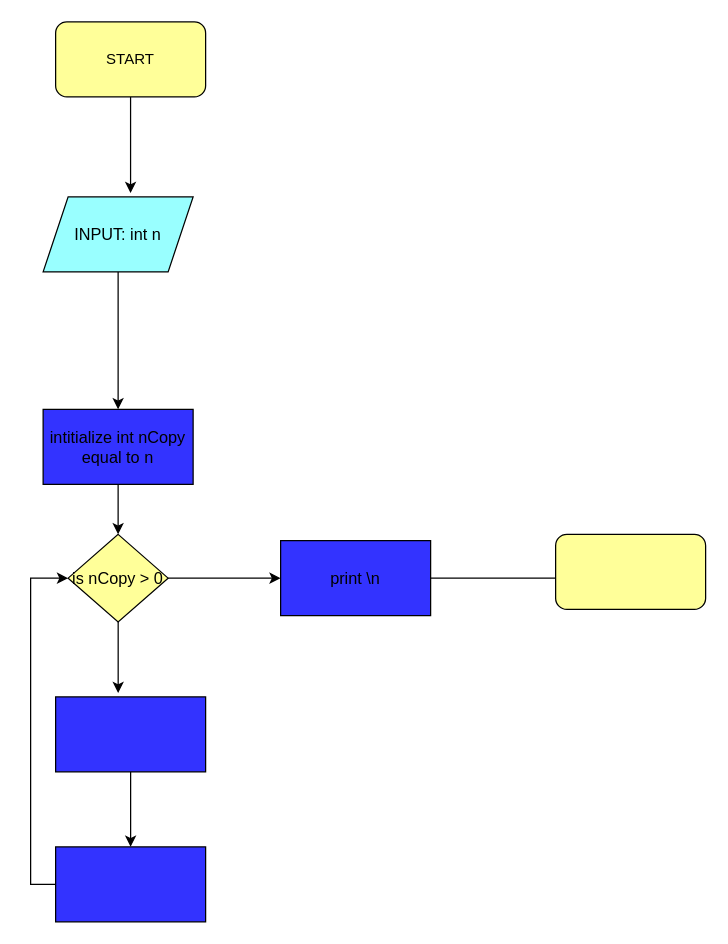
This 728x944 diagram has some shape labels left out. The shapes that lost their labels are listed below. From the top down, each one's box as (x1, y1, x2, y2) in pixels, then its label:
(554, 533, 706, 609): END
(54, 696, 206, 772): Print '_'
(54, 846, 206, 922): Decrease nCopy by 1
